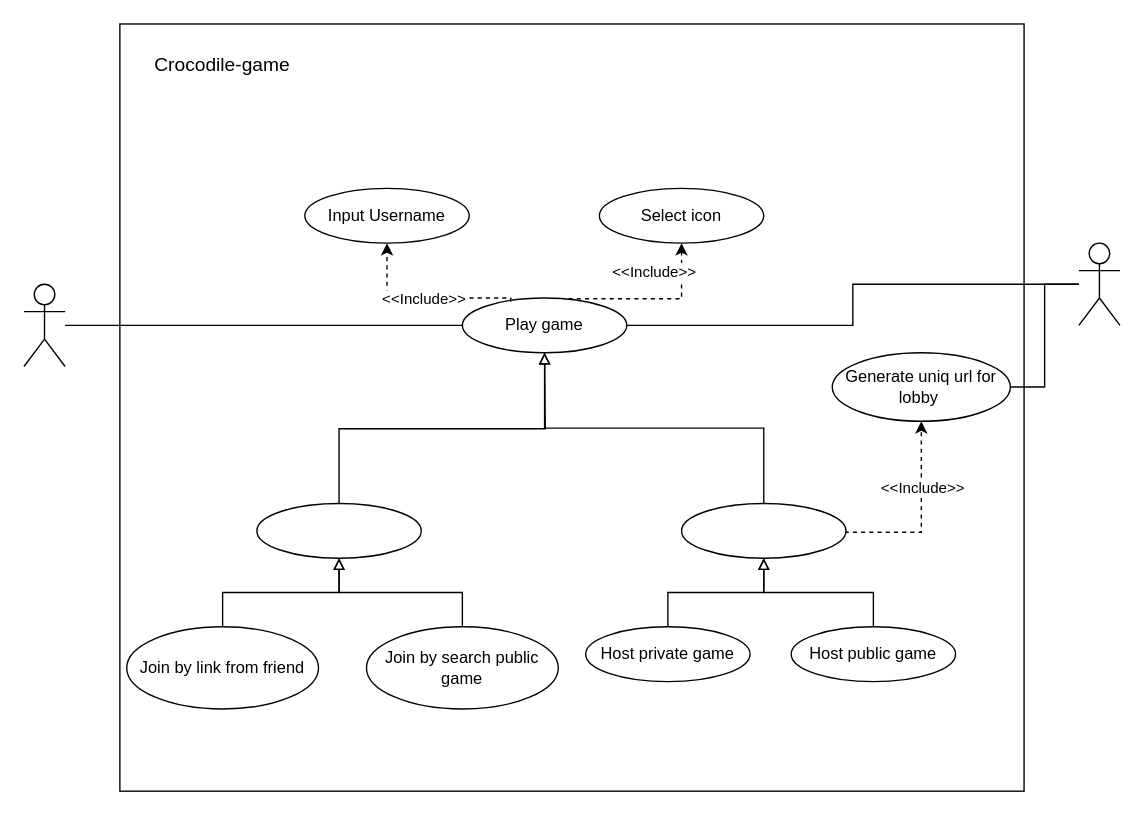
Some shapes in this 1147 by 815 pixel diagram are drawn without their labels. The shapes that lost their labels are listed below. From the top down, each one's centre as x and y in pixels, then its label:
the point at 1099,283: Server
the point at 44,324: User
the point at 338,530: Join the game
the point at 763,530: Host new game
